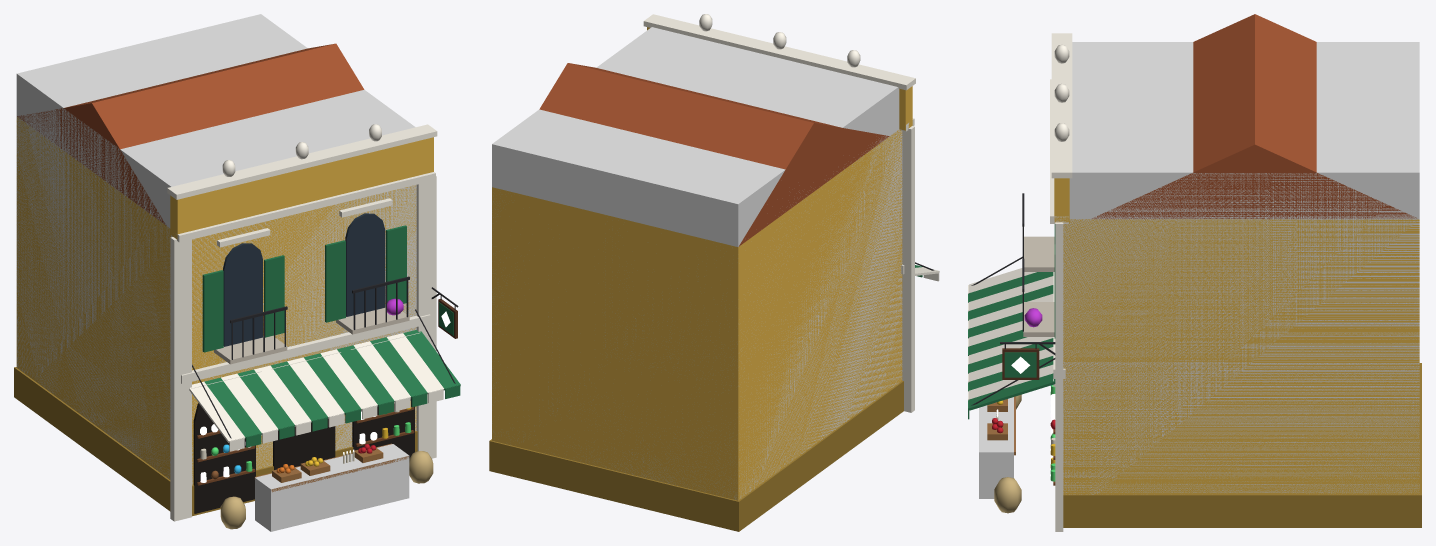
Rendered from tienda_armazem.glb.
3 renders of one model, left to right at view 1: azimuth 30°, elevation 25°; view 2: azimuth 150°, elevation 25°; view 3: azimuth 270°, elevation 25°, orthographic. The views are drawn at different scales.
Visible parts, largest first — view 1: tienda_armazem_Malla, COL_0, COL_1; view 2: tienda_armazem_Malla, COL_0; view 3: tienda_armazem_Malla, COL_0, COL_1.
Part boxes in pixels (bbox=[...]): tienda_armazem_Malla: bbox=[14, 43, 460, 529]; COL_0: bbox=[16, 14, 416, 485]; COL_1: bbox=[255, 444, 409, 531]; tienda_armazem_Malla: bbox=[489, 14, 939, 531]; COL_0: bbox=[492, 27, 902, 499]; tienda_armazem_Malla: bbox=[968, 14, 1421, 531]; COL_0: bbox=[1063, 42, 1419, 494]; COL_1: bbox=[979, 397, 1013, 498].
Bounding box in the file's own units: 6.44 × 8.22 × 8.81.
